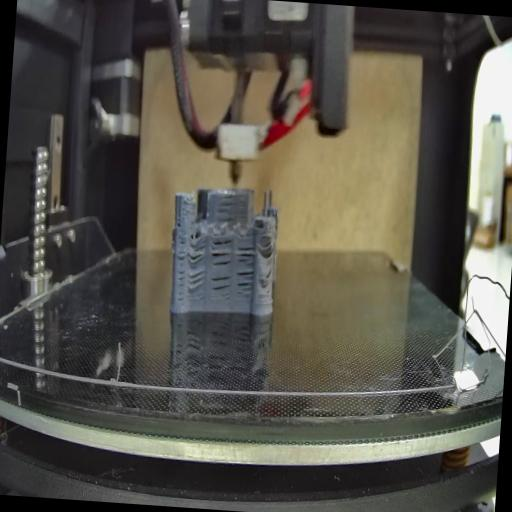cracks: (174, 240, 188, 303), (213, 193, 239, 222), (209, 237, 233, 268), (234, 266, 254, 298), (209, 272, 232, 298), (188, 246, 206, 268), (187, 270, 205, 292), (236, 244, 256, 262), (258, 236, 275, 257), (264, 265, 274, 281), (175, 216, 184, 230)
